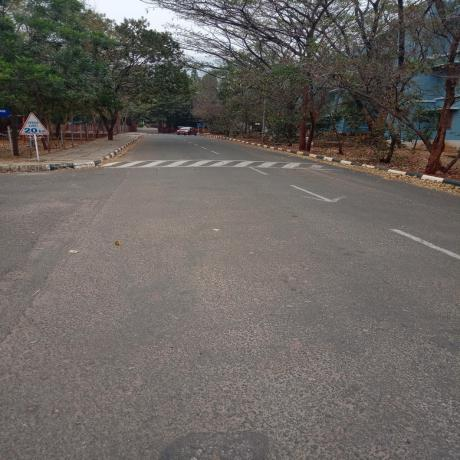Speed Bump: (106, 158, 334, 170)
